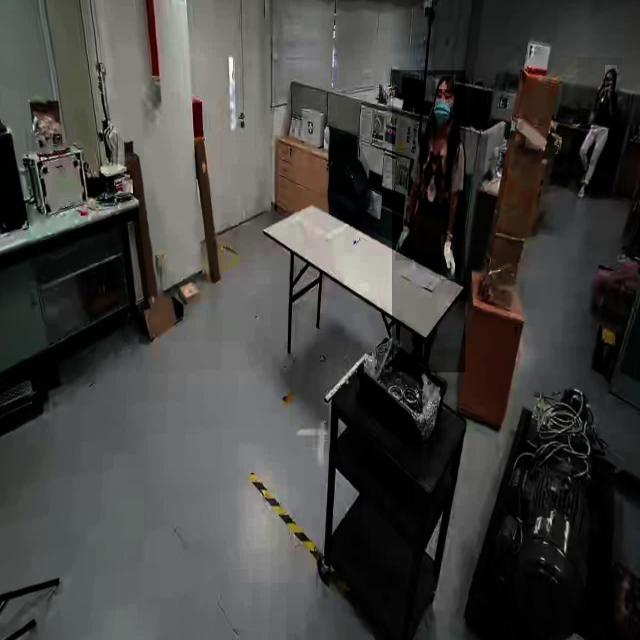face_mask: (432, 81, 450, 122)
hand_glove: (396, 218, 412, 261), (441, 235, 455, 280)
head_nohelmet: (436, 74, 456, 90), (605, 65, 617, 75)
person: (392, 70, 466, 374), (578, 57, 622, 202)
